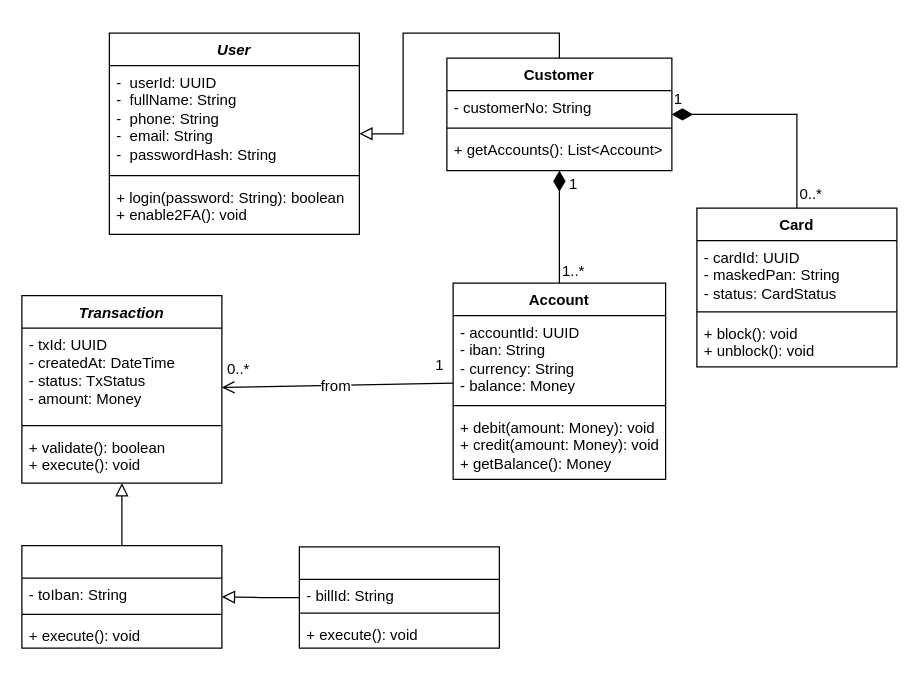
Some shapes in this 919 by 674 pixel diagram are drawn without their labels. Here are the shapes that lost their labels. From the top down, the box of each, then its label:
(21, 544, 222, 648): TransferTransaction
(298, 546, 499, 648): BillPaymentTransaction
